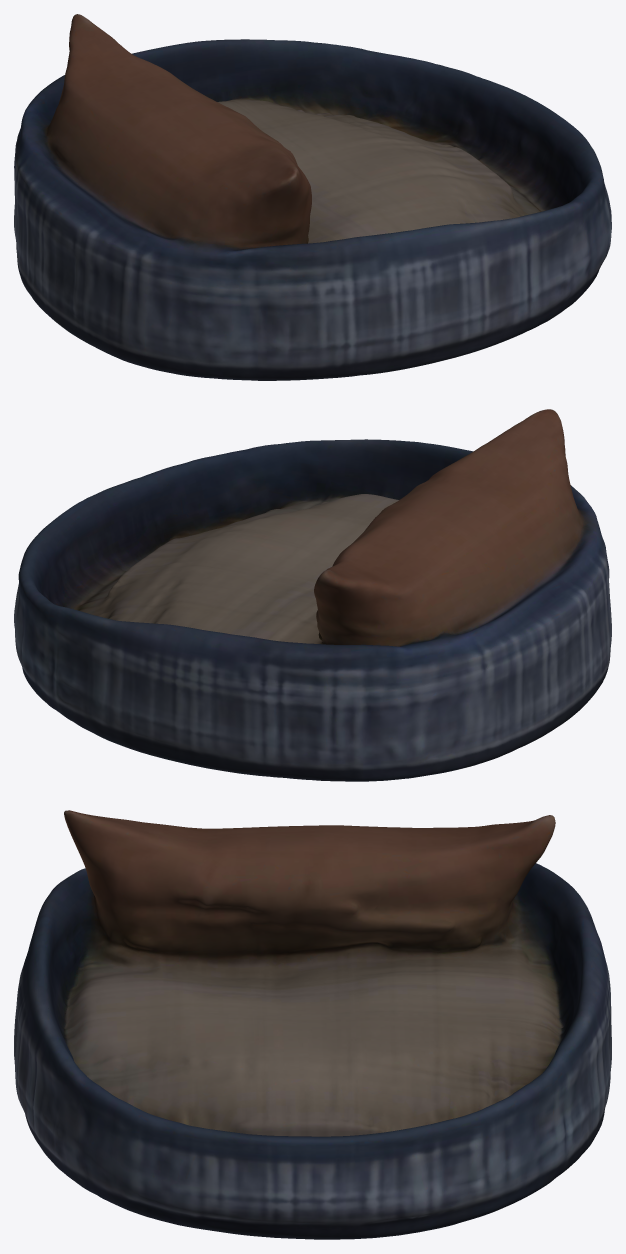
File: catbed.glb
3 views of the same model, one above another, from view 1: azimuth 30°, elevation 25°; view 2: azimuth 150°, elevation 25°; view 3: azimuth 270°, elevation 25° (orthographic). The views are drawn at different scales.
Parts seen in each view (by area): view 1: world; view 2: world; view 3: world.
Part boxes in pixels (x1,y1,x2,y2): world: (14,14,611,380); world: (14,409,611,781); world: (14,810,611,1239).
Bounding box in the file's own units: 0.5308 × 0.2093 × 0.4865.
1 material, 1 textured.
